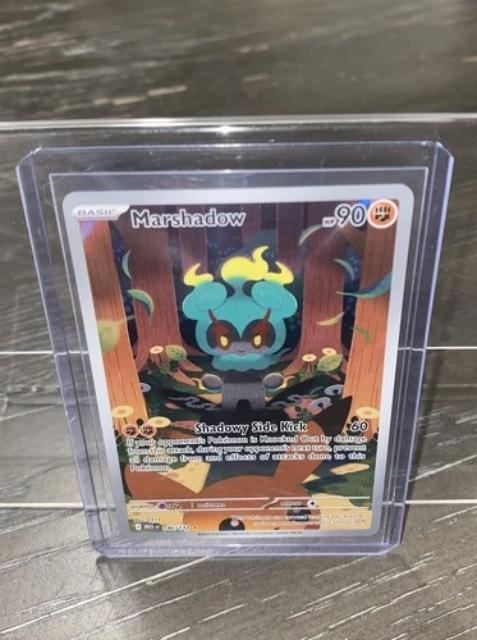Card: (58, 181, 421, 543)
Name: (123, 202, 250, 230)
